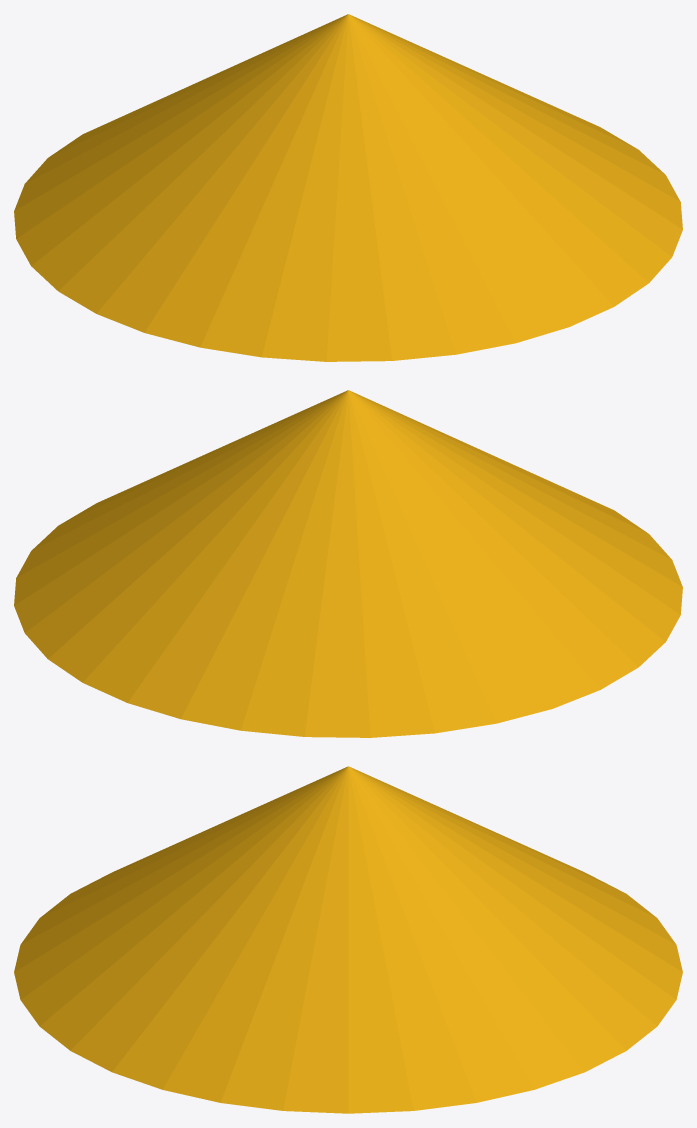
3 renders of one model, top to bottom at view 1: azimuth 30°, elevation 25°; view 2: azimuth 150°, elevation 25°; view 3: azimuth 270°, elevation 25°, orthographic.
Visible parts, largest first — view 1: Cone; view 2: Cone; view 3: Cone.
Part boxes in pixels (<box>): Cone: <box>14,14,682,361</box>; Cone: <box>14,390,682,737</box>; Cone: <box>14,766,682,1113</box>.
Size of the model in its own units: 2 by 0.68 by 2.
